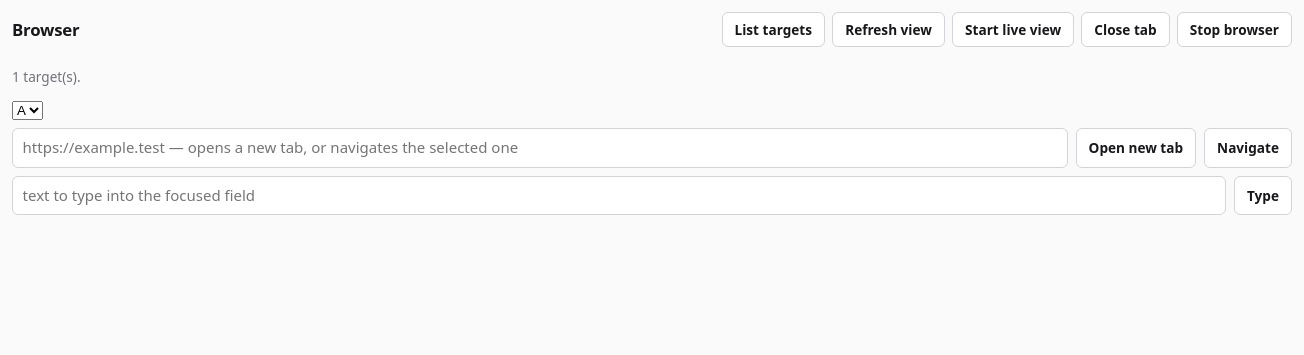
Test: BrowserPane › keeps one capture in flight when a shot is slower than the interval
Expected: the text "1 target(s)." is shown, [12,67,81,86]
Click the button "Start live view".
click(1013, 30)  # box [952,12,1074,47]
Wait 7500 ms
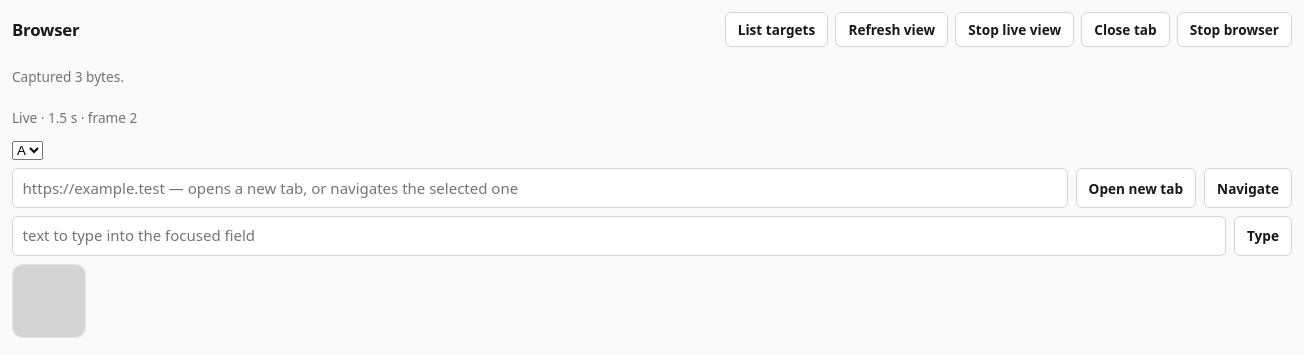
Expected: the text "Live · 1.5 s · frame 2" is shown, [12,108,137,127]
